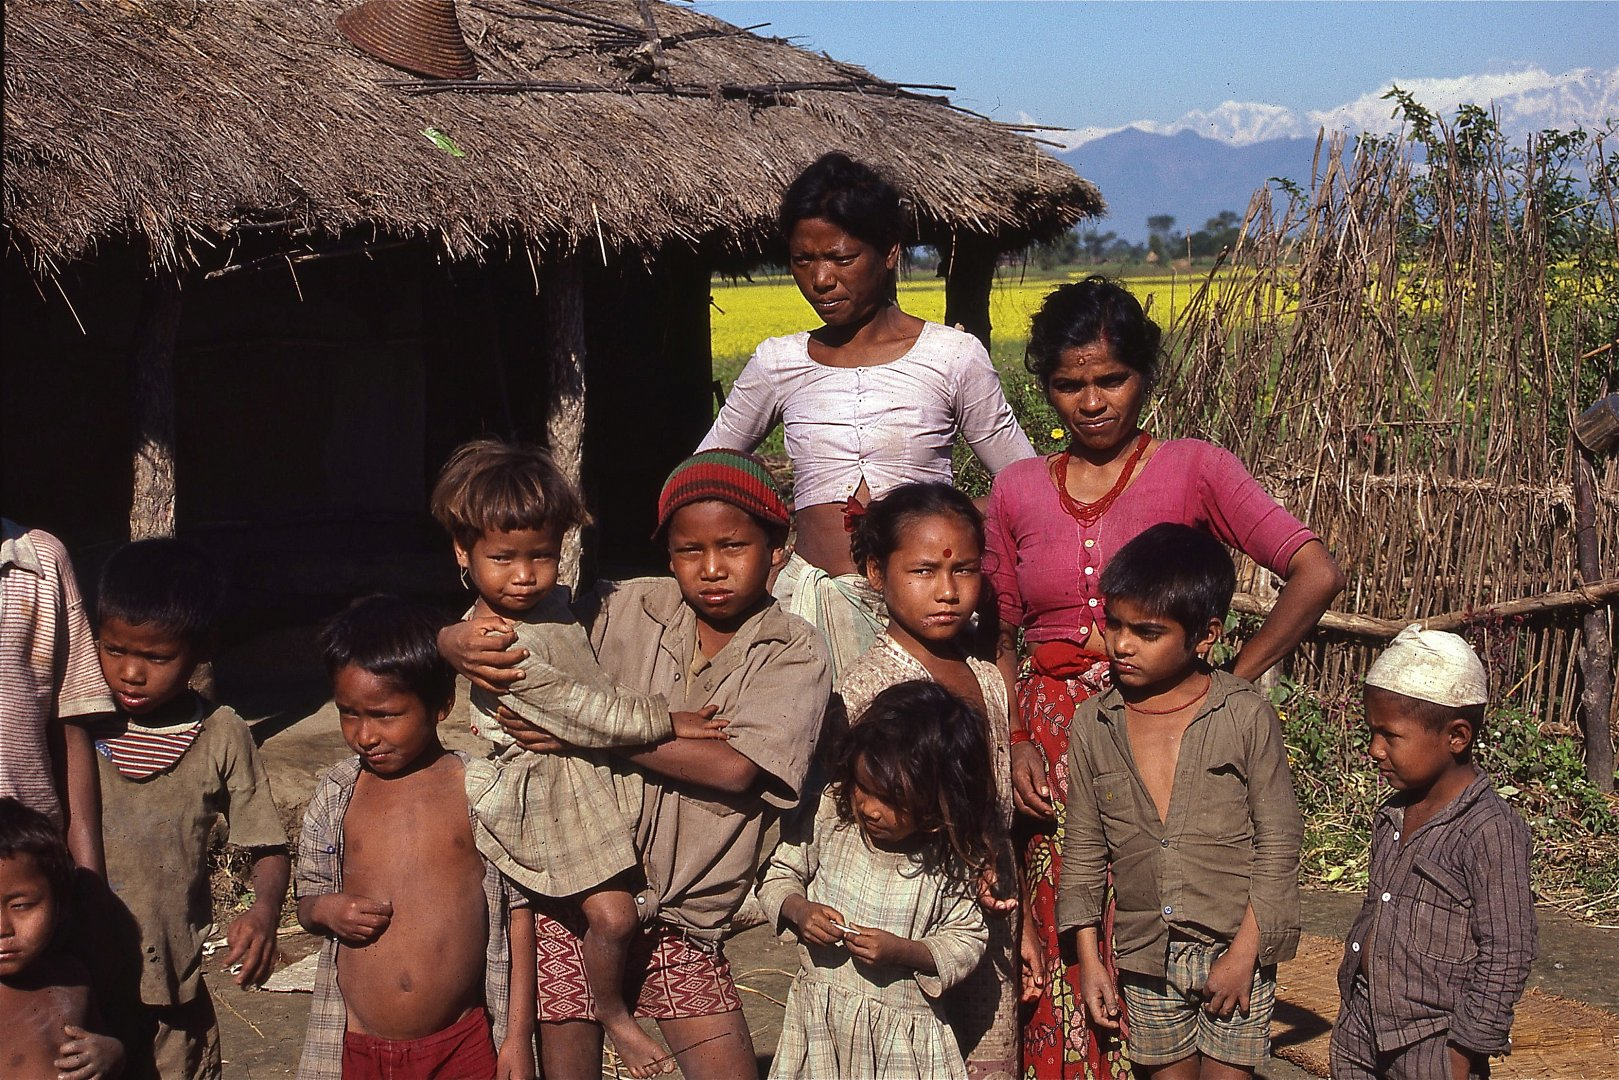human: (959, 268, 1346, 1080), (429, 432, 740, 1075), (560, 438, 834, 1080), (677, 137, 1079, 570), (1050, 514, 1316, 1080), (36, 529, 310, 1080), (283, 586, 534, 1080), (732, 674, 1012, 1080), (1314, 621, 1548, 1080)
